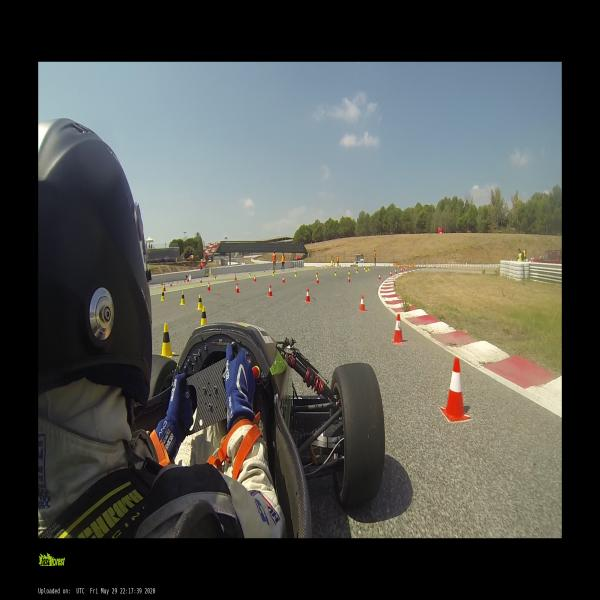orange_cone: (440, 357, 468, 423), (391, 314, 405, 344), (358, 294, 366, 312), (304, 288, 311, 302), (268, 284, 272, 296), (236, 284, 239, 294), (316, 276, 319, 284), (282, 276, 285, 283), (208, 282, 210, 291), (378, 274, 381, 280), (394, 269, 397, 274), (254, 275, 256, 282), (348, 275, 350, 282), (164, 284, 166, 291), (200, 278, 202, 284), (390, 271, 392, 276), (405, 267, 407, 271), (235, 274, 236, 280), (401, 268, 402, 273)
yellow_cone: (160, 323, 174, 357), (200, 306, 208, 325), (197, 294, 202, 309), (180, 291, 185, 305), (160, 289, 165, 301), (294, 271, 297, 277), (367, 265, 370, 271), (355, 268, 358, 273), (316, 271, 318, 278), (334, 270, 336, 276), (365, 266, 367, 272), (348, 269, 350, 275), (160, 282, 162, 287), (272, 271, 274, 276), (249, 272, 251, 276), (364, 266, 366, 269), (215, 276, 216, 280), (264, 270, 265, 274)
